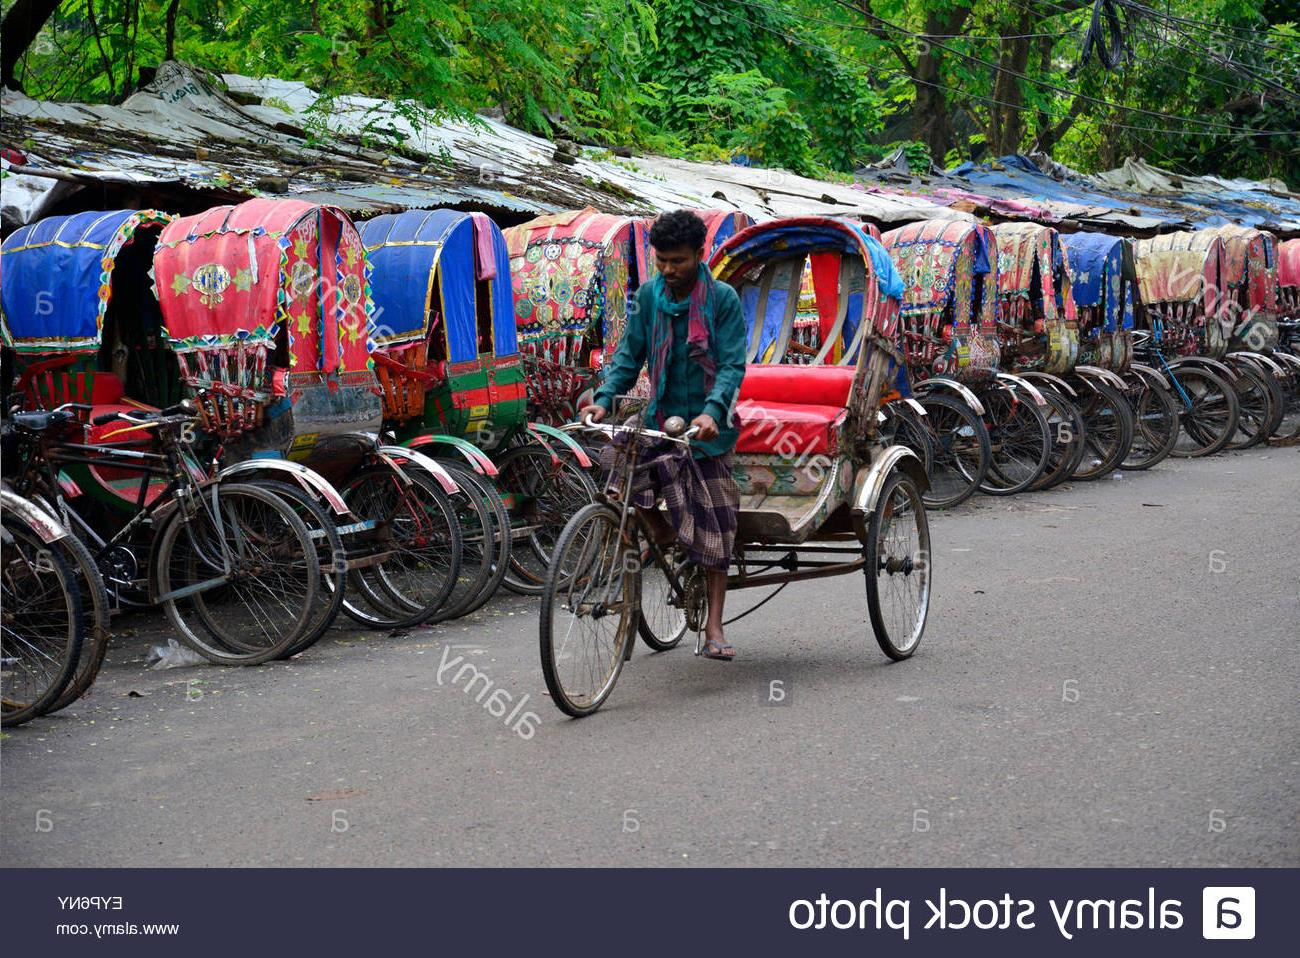Rickshaw: (542, 146, 960, 720), (160, 179, 404, 653), (2, 194, 215, 699), (345, 167, 532, 634), (489, 183, 657, 595), (866, 192, 1009, 496), (990, 204, 1090, 489), (1120, 213, 1233, 462), (1052, 216, 1152, 470), (1210, 210, 1298, 453), (1275, 224, 1298, 412)
